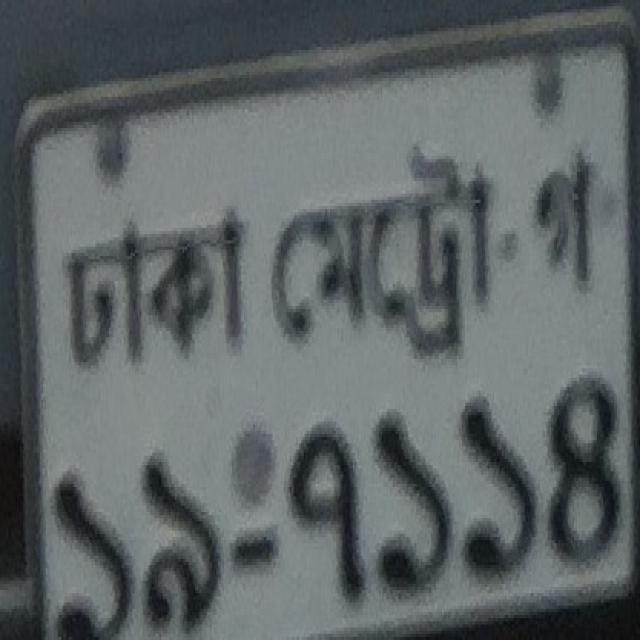cng: (63, 141, 604, 371)
numberplate: (8, 6, 637, 637)
